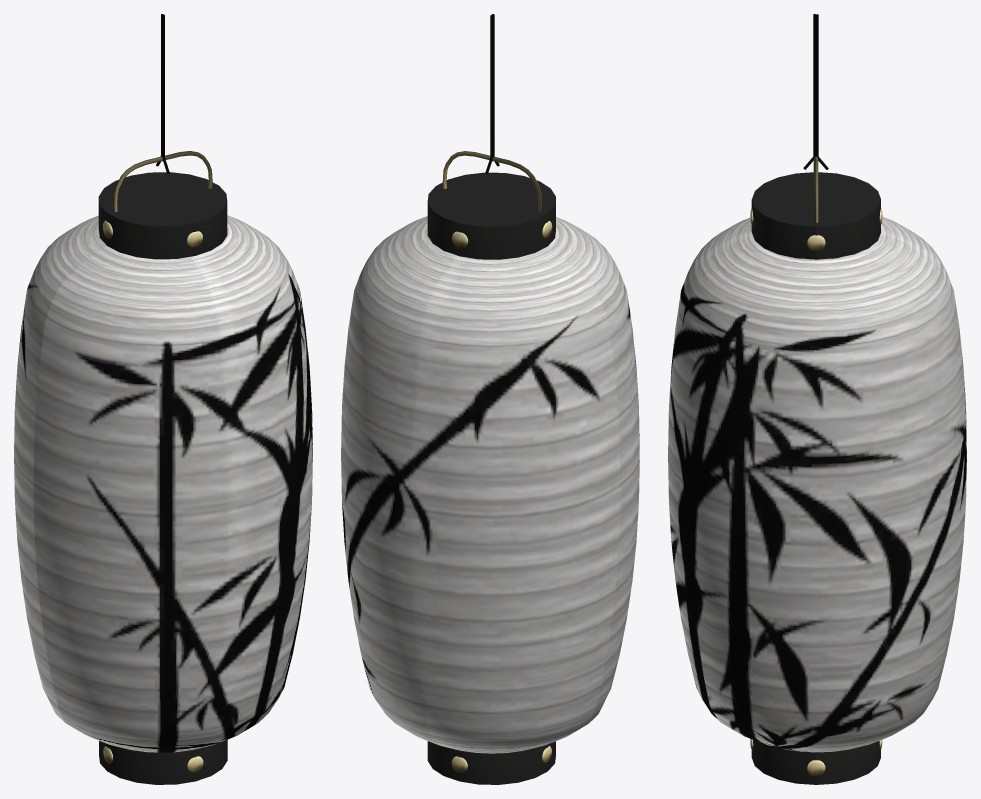
Rendered from Lantern2.c.fbx.
3 renders of one model, left to right at view 1: azimuth 30°, elevation 25°; view 2: azimuth 150°, elevation 25°; view 3: azimuth 270°, elevation 25°, orthographic.
Parts seen in each view (by area): view 1: Group 0; view 2: Group 0; view 3: Group 0.
Boxes of the visible parts, x1=… form: Group 0: x1=14, y1=14, x2=312, y2=784; Group 0: x1=341, y1=14, x2=639, y2=784; Group 0: x1=668, y1=14, x2=966, y2=784.
Size of the model in its own units: 45.99 by 125 by 45.74.
1 material, 1 textured.
